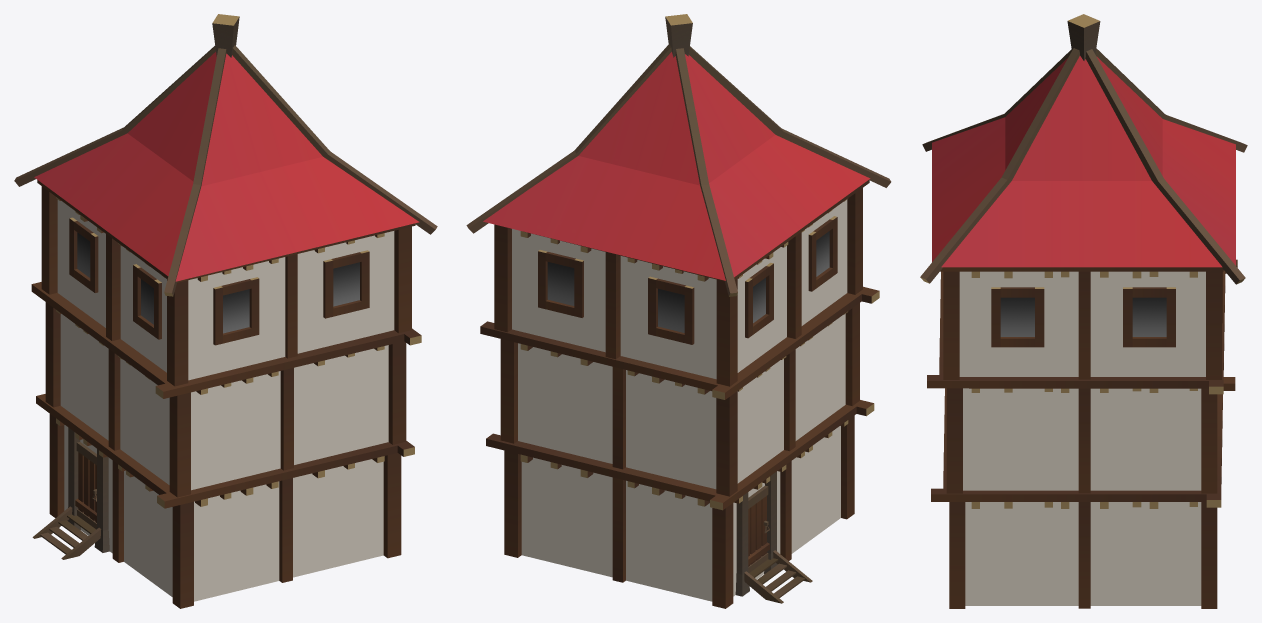
The model's file is House_12_LOD1.fbx.
3 views of the same model, side by side, from view 1: azimuth 30°, elevation 25°; view 2: azimuth 150°, elevation 25°; view 3: azimuth 270°, elevation 25° (orthographic). The views are drawn at different scales.
Visible parts, largest first — view 1: polySurface9621; view 2: polySurface9621; view 3: polySurface9621.
Part boxes in pixels (x1=…): polySurface9621: x1=14, y1=14, x2=437, y2=608; polySurface9621: x1=466, y1=14, x2=891, y2=608; polySurface9621: x1=920, y1=14, x2=1247, y2=608.
Bounding box in the file's own units: 817 × 1407 × 785.
